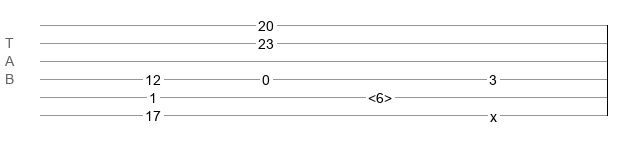0: (262, 72, 270, 82)
1: (149, 90, 157, 100)
12: (145, 72, 161, 82)
17: (145, 108, 161, 118)
20: (258, 18, 274, 28)
23: (258, 36, 274, 46)
3: (489, 72, 497, 82)
harmonic: (368, 90, 392, 100)
x: (490, 109, 497, 117)
